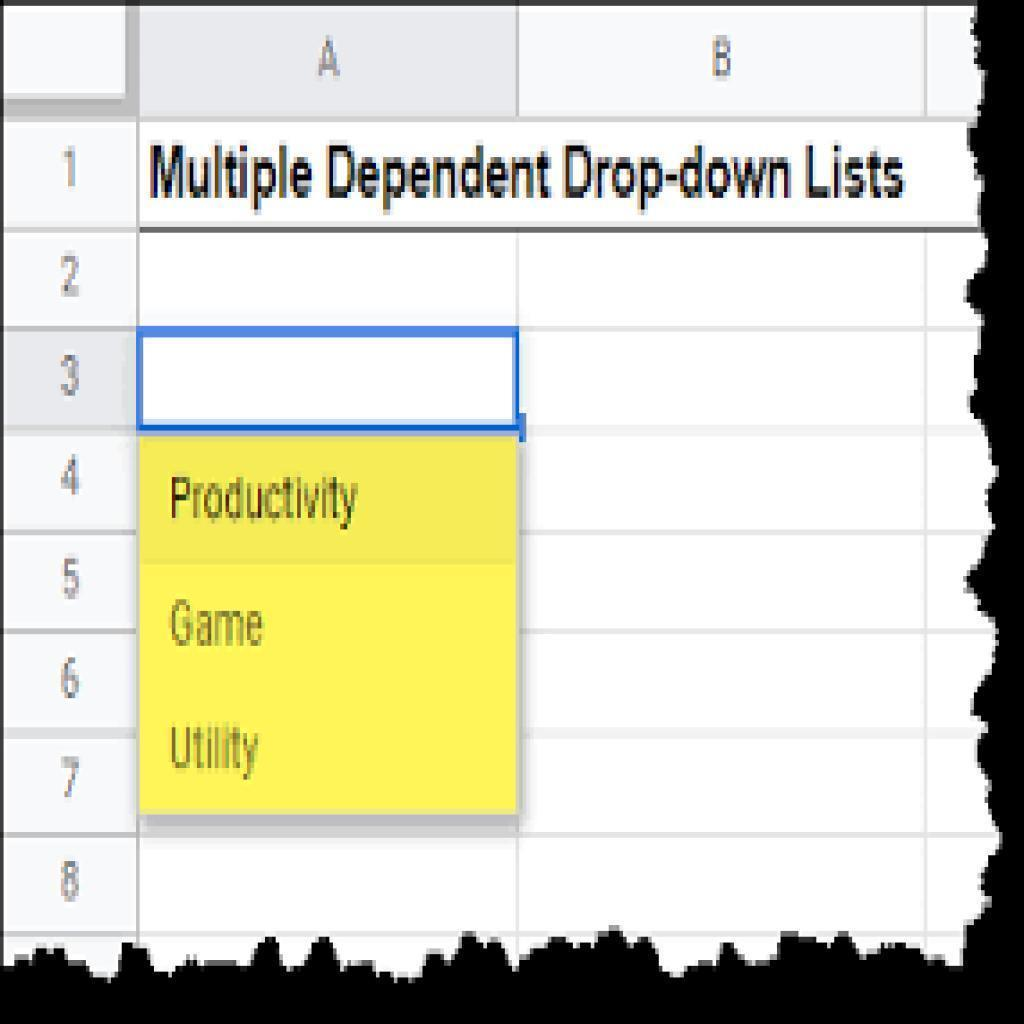radio: (1, 0, 930, 936)
